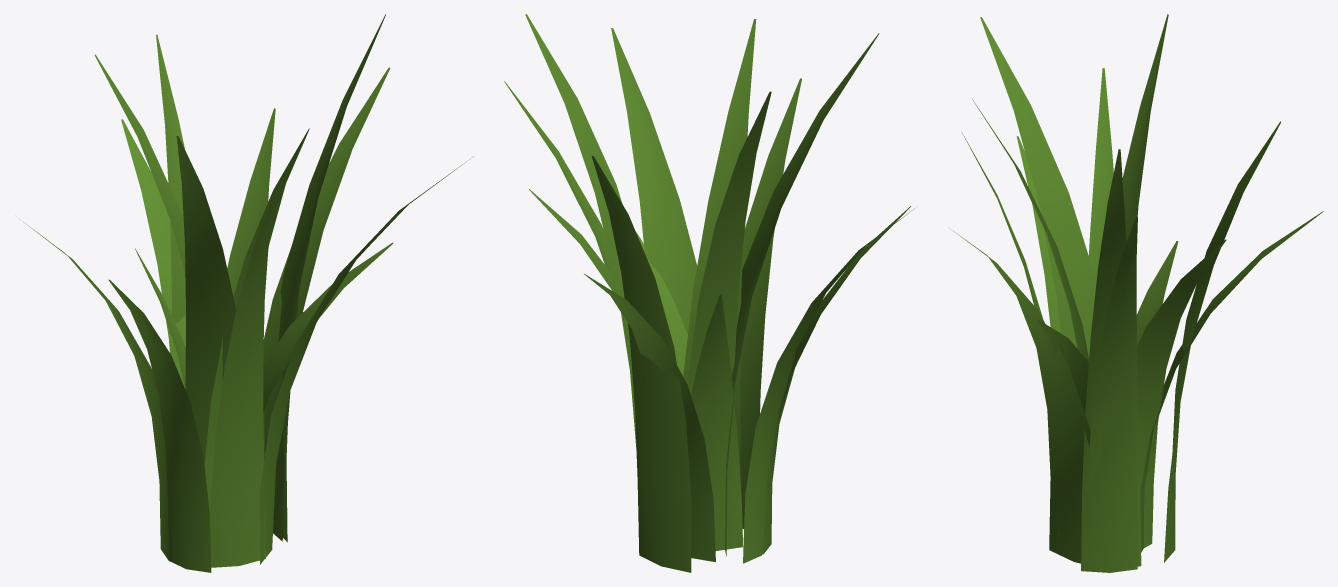
File: SM_GrassTuft.glb
3 views of the same model, side by side, from view 1: azimuth 30°, elevation 25°; view 2: azimuth 150°, elevation 25°; view 3: azimuth 270°, elevation 25° (orthographic). The views are drawn at different scales.
Visible parts, largest first — view 1: SM_GrassTuft; view 2: SM_GrassTuft; view 3: SM_GrassTuft.
Boxes of the visible parts, x1=… form: SM_GrassTuft: x1=23, y1=14, x2=473, y2=572; SM_GrassTuft: x1=504, y1=14, x2=914, y2=572; SM_GrassTuft: x1=948, y1=14, x2=1323, y2=572.
Size of the model in its own units: 0.3422 by 0.4101 by 0.2881.
